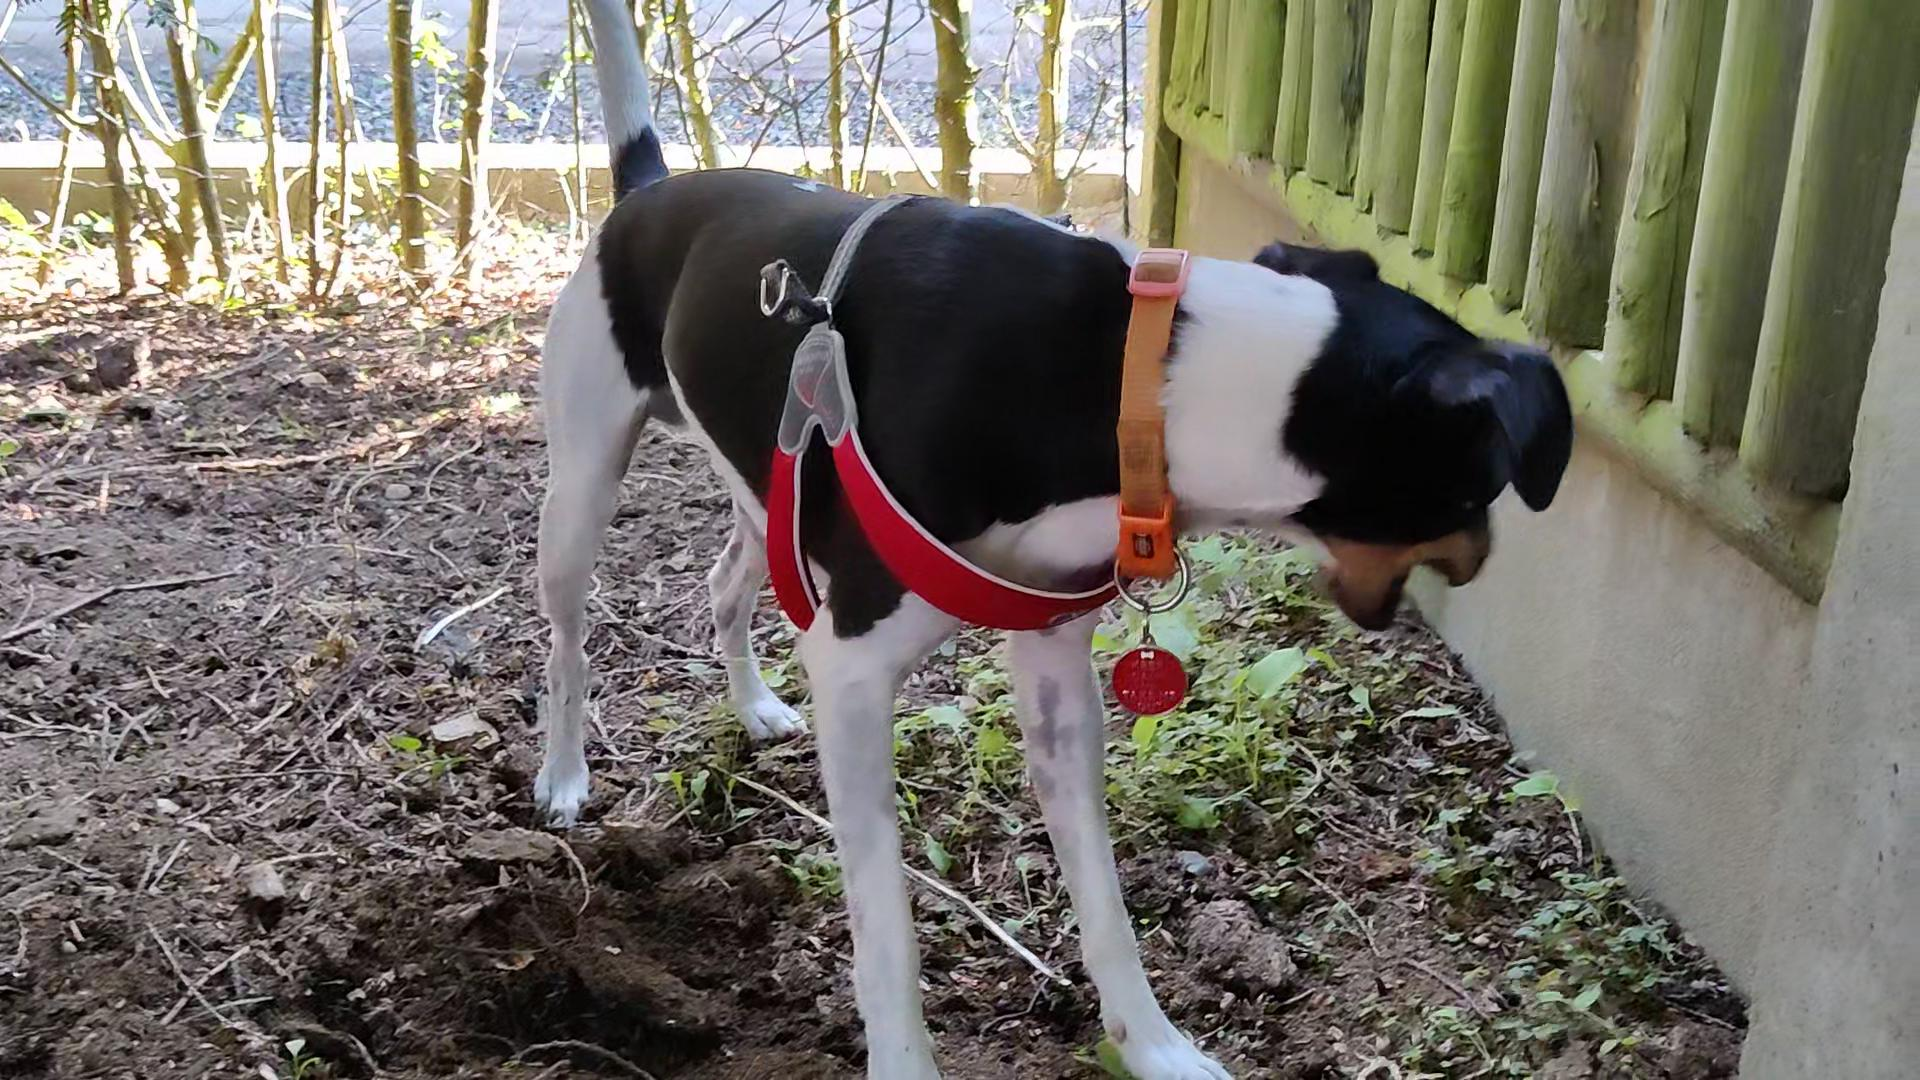Dog: (527, 0, 1584, 1079)
